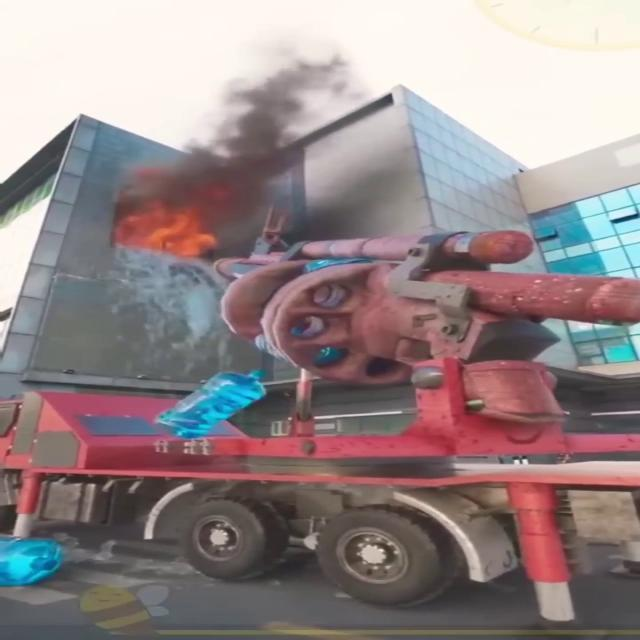Fire: (110, 196, 220, 261)
Smoke: (155, 30, 425, 224)
